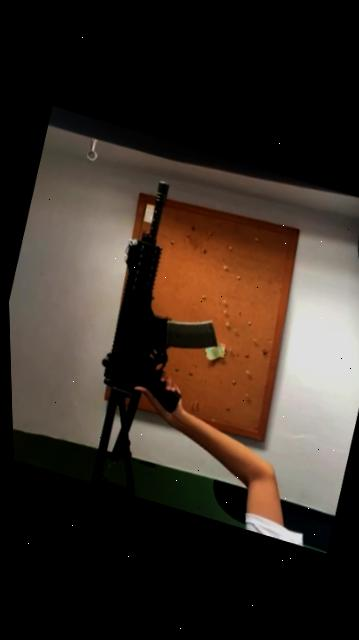rifle: (31, 156, 277, 517)
